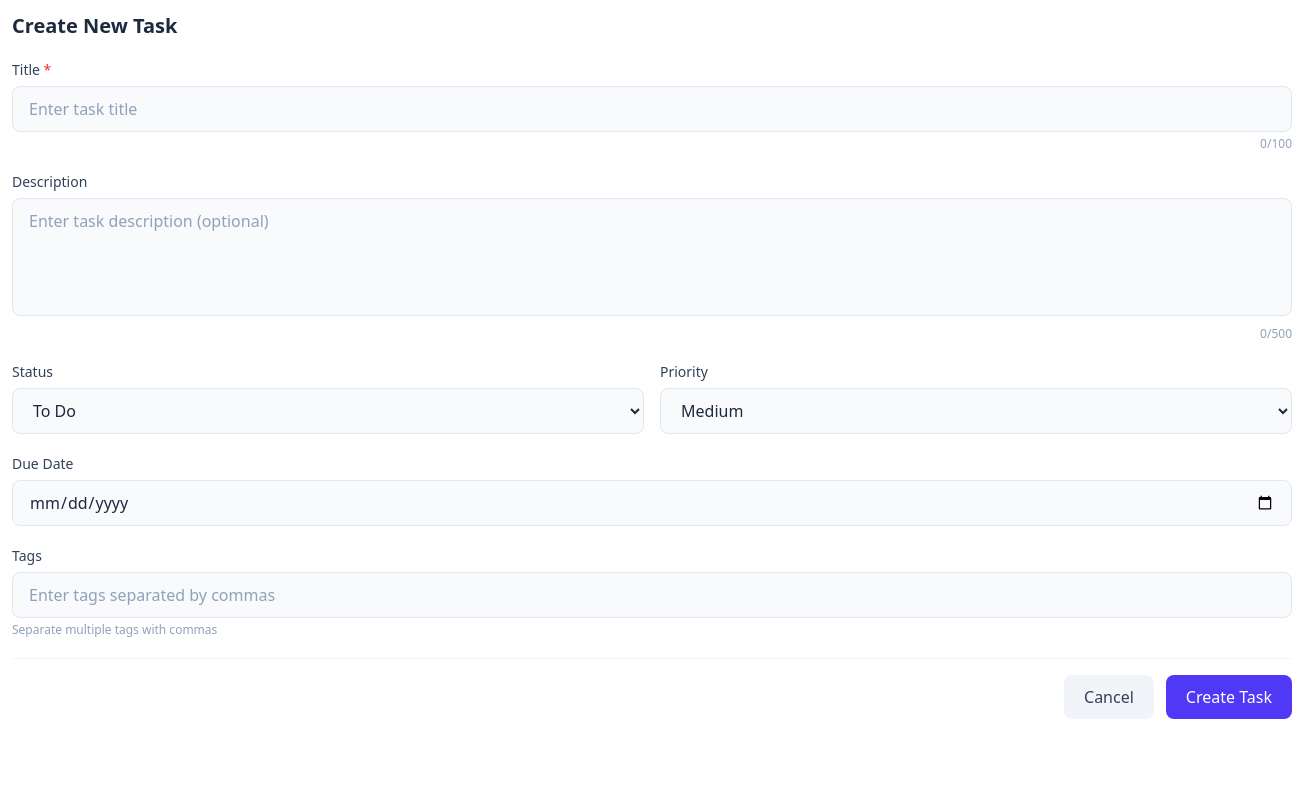
Test: TaskForm › clears error when user starts typing
# Trigger validation error
Click the button "Create Task" at (1229, 697), box [1166,675,1292,719]
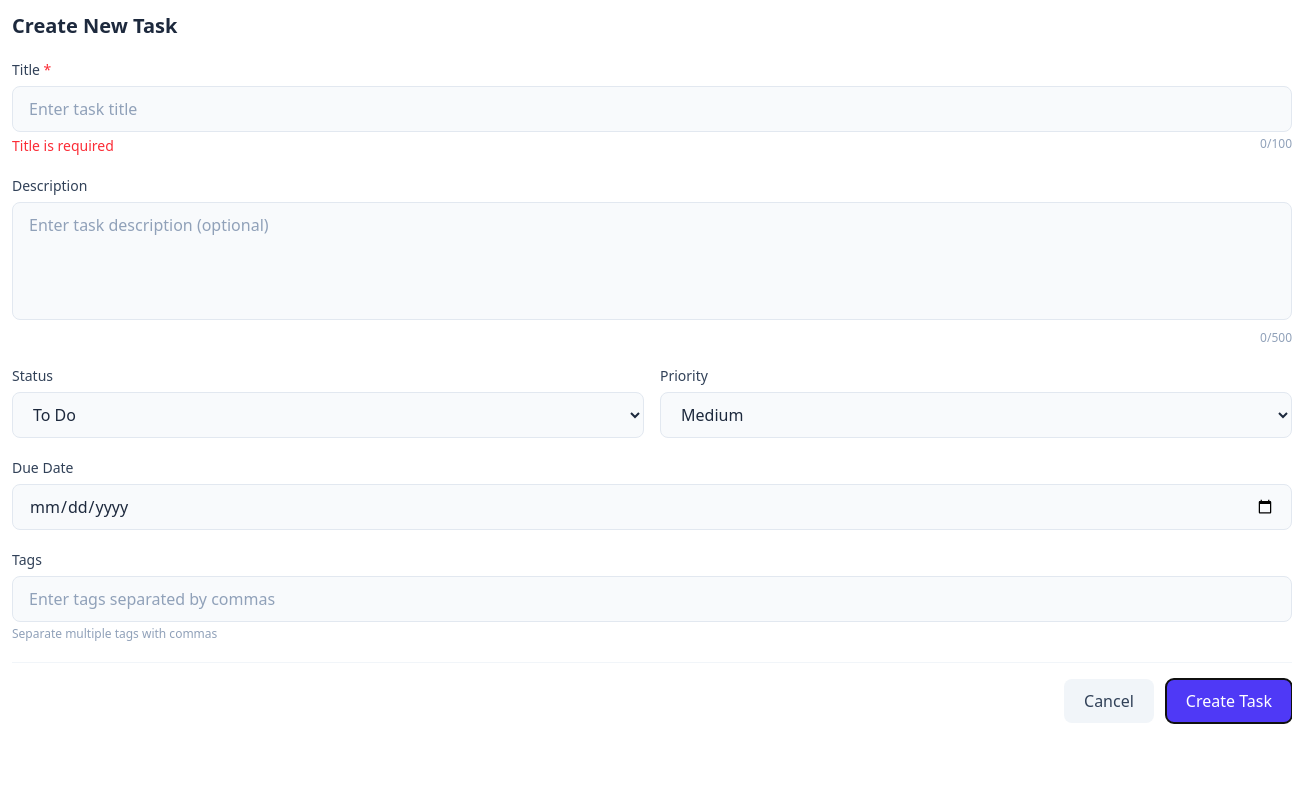
Now the text "Title is required" is shown, box [12,136,114,156]
# Start typing
Type "N" into the field labelled "Title *" at (652, 109), box [12,86,1292,132]
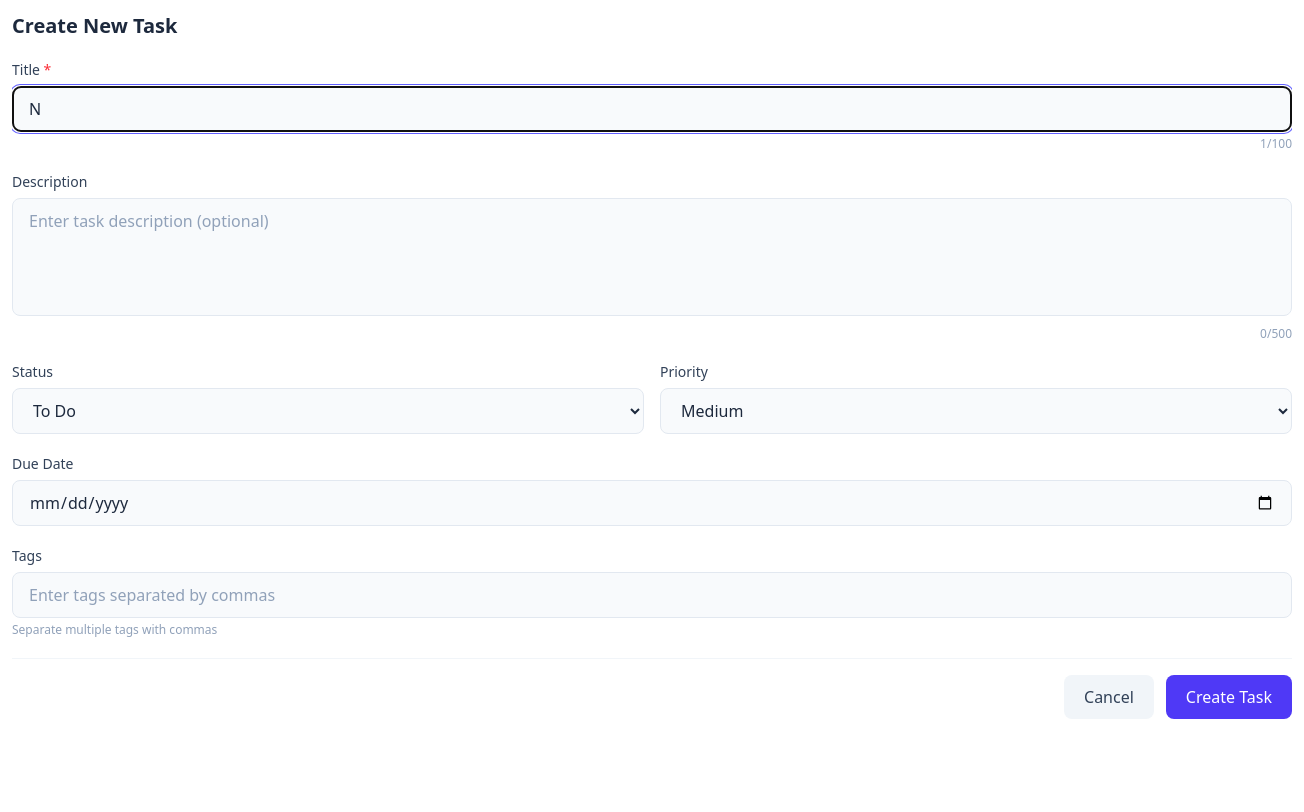
Now the text "Title is required" is gone
